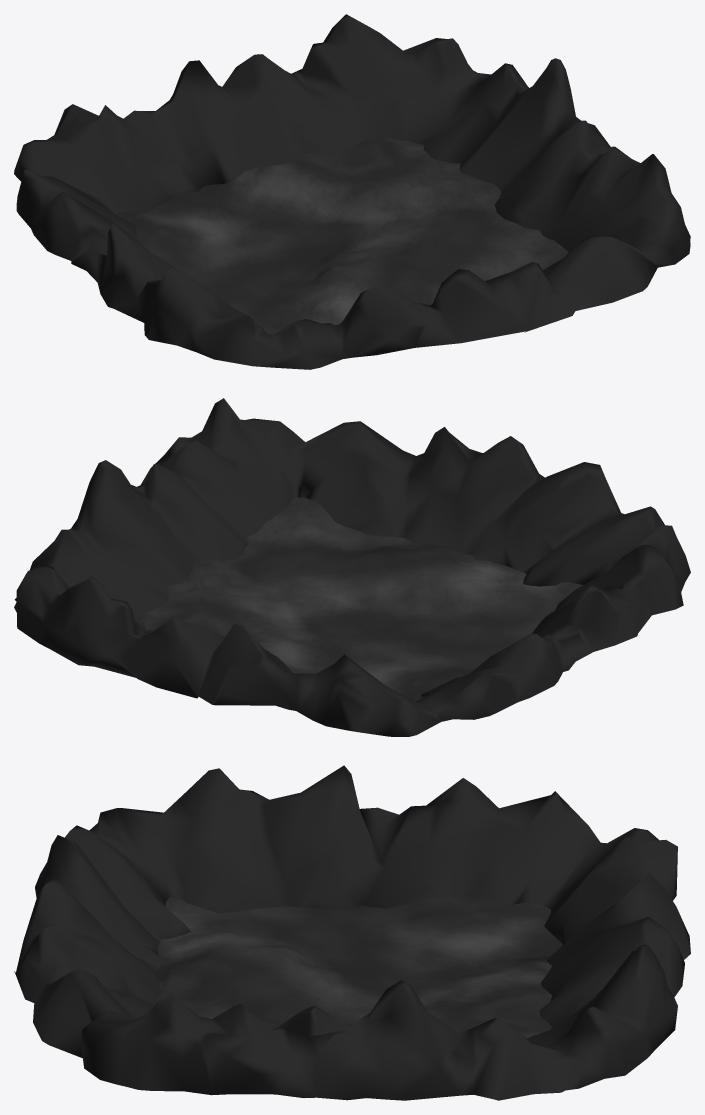
The model's file is terrain_LPmain.fbx.
3 renders of one model, top to bottom at view 1: azimuth 30°, elevation 25°; view 2: azimuth 150°, elevation 25°; view 3: azimuth 270°, elevation 25°, orthographic. The views are drawn at different scales.
Visible parts, largest first — view 1: terrain_low; view 2: terrain_low; view 3: terrain_low.
Boxes of the visible parts, bbox=[...] form: terrain_low: bbox=[14, 14, 690, 369]; terrain_low: bbox=[14, 398, 690, 736]; terrain_low: bbox=[14, 765, 690, 1100].
Size of the model in its own units: 39715 by 10311 by 40065.
